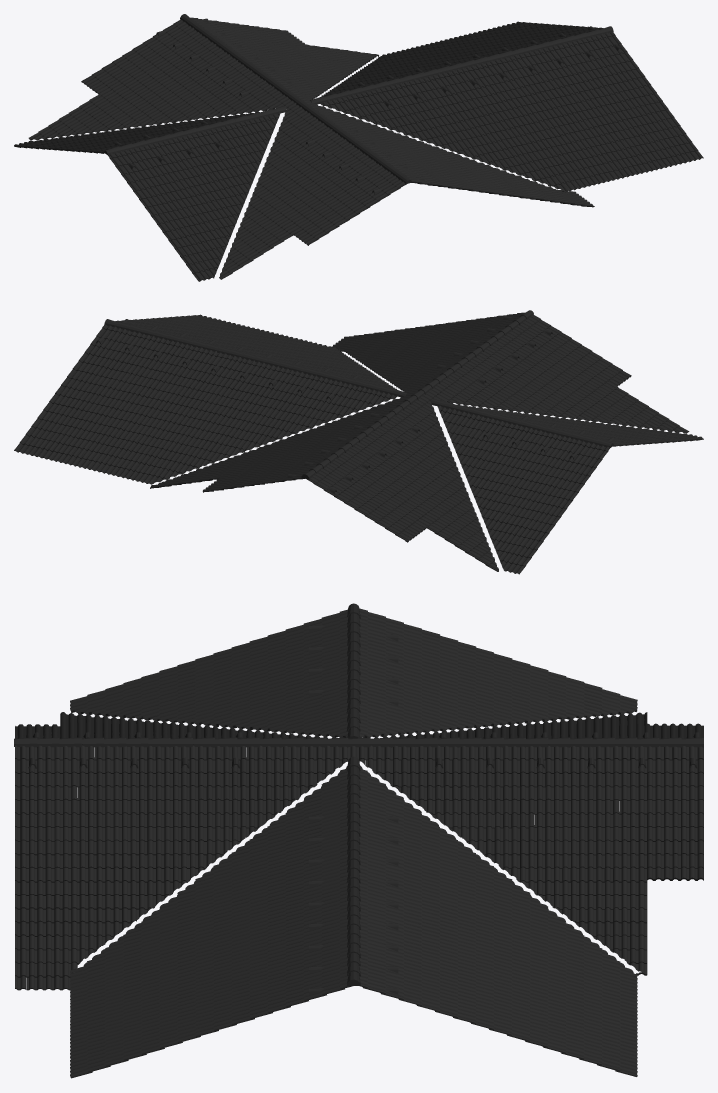
File: house-v3-roof.glb
3 renders of one model, top to bottom at view 1: azimuth 30°, elevation 25°; view 2: azimuth 150°, elevation 25°; view 3: azimuth 270°, elevation 25°, orthographic. The views are drawn at different scales.
Parts seen in each view (by area): view 1: Material58; view 2: Material58; view 3: Material58.
Boxes of the visible parts, x1,y1,x2,y2 form: Material58: (14, 14, 703, 281); Material58: (14, 310, 703, 574); Material58: (14, 603, 703, 1078).
Size of the model in its own units: 15.82 by 2.22 by 12.22.
Materials: 1 (1 with a texture image).
